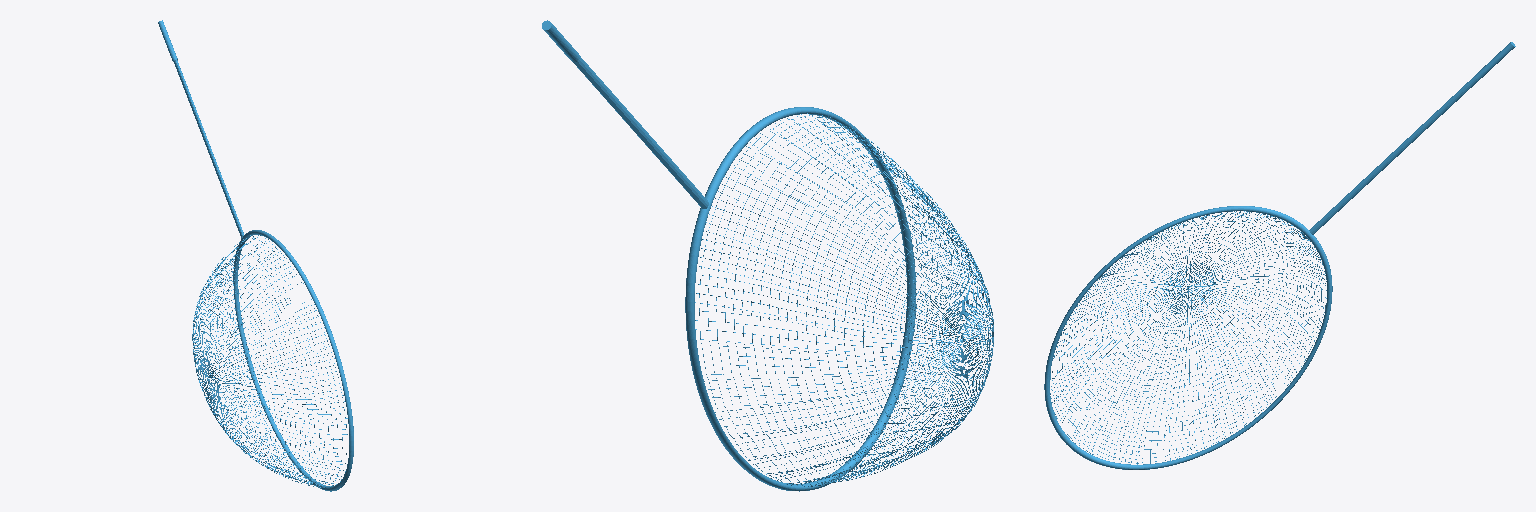
robot.urdf — panda:
<?xml version="1.0" encoding="utf-8"?>
<!-- =================================================================================== -->
<!-- |    This document is a hand edited version of the output autogenerated by xacro  | -->
<!-- |    from panda_arm_hand.urdf.xacro                                               | -->
<!-- |    Please see the README of parent directory for more details.                  | -->
<!-- =================================================================================== -->
<robot xmlns:drake="http://drake.mit.edu" name="panda">
  <link name="panda_link0">
    <inertial>
      <mass value="2.92"/>
      <origin xyz="-0.025566 -2.88e-05 0.057332" rpy="0 0 0"/>
      <inertia ixx="0.00782229414331" ixy="-1.56191622996e-05" ixz="-0.00126005738123" iyy="0.0109027971813" iyz="1.08233858202e-05" izz="0.0102355503949"/>
    </inertial>
    <visual>
      <origin rpy="1.57079632679 0 0"/>
      <geometry>
        <mesh filename="package://drake_models/franka_description/meshes/visual/link0.obj"/>
      </geometry>
    </visual>
    <collision>
      <origin rpy="0 0 0" xyz="-0.04 0.0 0.07"/>
      <geometry>
        <!-- <box size="0.25 0.2 0.14"/> -->
        <sphere radius="0.14"/>
      </geometry>
    </collision>
  </link>
  <link name="panda_link1">
    <inertial>
      <mass value="2.74"/>
      <origin xyz="0 -0.0324958 -0.0675818" rpy="0 0 0"/>
      <inertia ixx="0.0180416958283" ixy="0.0" ixz="0.0" iyy="0.0159136071891" iyz="0.0046758424612" izz="0.00620690827127"/>
    </inertial>
    <visual>
      <origin rpy="1.57079632679 0 0"/>
      <geometry>
        <mesh filename="package://drake_models/franka_description/meshes/visual/link1.obj"/>
      </geometry>
    </visual>
    <collision>
      <origin rpy="0 0 0" xyz="0.0 -0.03 -0.06"/>
      <geometry>
        <!-- <cylinder length="0.192" radius="0.08"/> -->
        <sphere radius="0.150"/>
      </geometry>
    </collision>
  </link>
  <joint name="panda_joint1" type="revolute">
    <origin rpy="0 0 0" xyz="0 0 0.333"/>
    <parent link="panda_link0"/>
    <child link="panda_link1"/>
    <axis xyz="0 0 1"/>
    <limit effort="87" lower="-2.8973" upper="2.8973" velocity="2.1750" drake:acceleration="15.0"/>
  </joint>
  <link name="panda_link2">
    <inertial>
      <mass value="2.74"/>
      <origin xyz="0 -0.06861 0.0322285" rpy="0 0 0"/>
      <inertia ixx="0.0182856182281" ixy="0.0" ixz="0.0" iyy="0.00621358421175" iyz="-0.00472844221905" izz="0.0161514346309"/>
    </inertial>
    <visual>
      <origin rpy="1.57079632679 0 0"/>
      <geometry>
        <mesh filename="package://drake_models/franka_description/meshes/visual/link2.obj"/>
      </geometry>
    </visual>
    <collision>
      <origin rpy="0 0 1.57" xyz="0.0 -0.06 0.03"/>
      <geometry>
        <!-- <cylinder length="0.290" radius="0.08"/> -->
        <sphere radius="0.150"/>
      </geometry>
    </collision>
  </link>
  <joint name="panda_joint2" type="revolute">
    <origin rpy="-1.57079632679 0 0" xyz="0 0 0"/>
    <parent link="panda_link1"/>
    <child link="panda_link2"/>
    <axis xyz="0 0 1"/>
    <limit effort="87" lower="-1.7628" upper="1.7628" velocity="2.1750" drake:acceleration="7.5"/>
  </joint>
  <link name="panda_link3">
    <inertial>
      <mass value="2.38"/>
      <origin xyz="0.0469893 0.0316374 -0.031704" rpy="0 0 0"/>
      <inertia ixx="0.00771376630908" ixy="-0.00248490625138" ixz="-0.00332147581033" iyy="0.00989108008727" iyz="-0.00217796151484" izz="0.00811723558464"/>
    </inertial>
    <visual>
      <origin rpy="1.57079632679 0 0"/>
      <geometry>
        <mesh filename="package://drake_models/franka_description/meshes/visual/link3.obj"/>
      </geometry>
    </visual>
    <collision>
      <origin rpy="0 0 0" xyz="0.06 0.024 -0.06"/>
      <geometry>
        <!-- <cylinder length="0.290" radius="0.08"/> -->
        <sphere radius="0.140"/>
      </geometry>
    </collision>
  </link>
  <joint name="panda_joint3" type="revolute">
    <origin rpy="1.57079632679 0 0" xyz="0 -0.316 0"/>
    <parent link="panda_link2"/>
    <child link="panda_link3"/>
    <axis xyz="0 0 1"/>
    <limit effort="87" lower="-2.8973" upper="2.8973" velocity="2.1750" drake:acceleration="10.0"/>
  </joint>
  <link name="panda_link4">
    <inertial>
      <mass value="2.38"/>
      <origin xyz="-0.0360446 0.0336853 0.031882" rpy="0 0 0"/>
      <inertia ixx="0.00799663881132" ixy="0.00347095570217" ixz="-0.00241222942995" iyy="0.00825390705278" iyz="0.00235774044121" izz="0.0102515004345"/>
    </inertial>
    <visual>
      <origin rpy="1.57079632679 0 0"/>
      <geometry>
        <mesh filename="package://drake_models/franka_description/meshes/visual/link4.obj"/>
      </geometry>
    </visual>
    <collision>
      <origin rpy="0 0 1.57" xyz="-0.05 0.01 0.02"/>
      <geometry>
        <!-- <cylinder length="0.250" radius="0.08"/> -->
        <sphere radius="0.140"/>
      </geometry>
    </collision>
  </link>
  <joint name="panda_joint4" type="revolute">
    <origin rpy="1.57079632679 0 0" xyz="0.0825 0 0"/>
    <parent link="panda_link3"/>
    <child link="panda_link4"/>
    <axis xyz="0 0 1"/>
    <limit effort="87" lower="-3.0718" upper="-0.0698" velocity="2.1750" drake:acceleration="12.5"/>
  </joint>
  <link name="panda_link5">
    <inertial>
      <mass value="2.74"/>
      <origin xyz="0 0.0610427 -0.104176" rpy="0 0 0"/>
      <inertia ixx="0.030371374513" ixy="6.50283587108e-07" ixz="-1.05129179916e-05" iyy="0.0288752887402" iyz="-0.00775653445787" izz="0.00444134056164"/>
    </inertial>
    <visual>
      <origin rpy="1.57079632679 0 0"/>
      <geometry>
        <mesh filename="package://drake_models/franka_description/meshes/visual/link5.obj"/>
      </geometry>
    </visual>
    <collision>
      <origin rpy="0 0 0" xyz="0.0 0.027 -0.21"/>
      <geometry>
        <!-- <cylinder length="0.240" radius="0.1"/> -->
        <sphere radius="0.1"/>
      </geometry>
    </collision>
    <collision>
      <origin rpy="0 0 0" xyz="0.0 0.07 -0.04"/>
      <geometry>
        <!-- <cylinder length="0.230" radius="0.05"/> -->
        <sphere radius="0.115"/>
      </geometry>
    </collision>
  </link>
  <joint name="panda_joint5" type="revolute">
    <origin rpy="-1.57079632679 0 0" xyz="-0.0825 0.384 0"/>
    <parent link="panda_link4"/>
    <child link="panda_link5"/>
    <axis xyz="0 0 1"/>
    <limit effort="12" lower="-2.8973" upper="2.8973" velocity="2.610" drake:acceleration="15.0"/>
  </joint>
  <link name="panda_link6">
    <inertial>
      <mass value="1.55"/>
      <origin xyz="0.0510509 0.009108 0.0106343" rpy="0 0 0"/>
      <inertia ixx="0.00303336450376" ixy="-0.000437276865508" ixz="0.000629257294877" iyy="0.00404479911567" iyz="0.000130472021025" izz="0.00558234286039"/>
    </inertial>
    <visual>
      <origin rpy="1.57079632679 0 0"/>
      <geometry>
        <mesh filename="package://drake_models/franka_description/meshes/visual/link6.obj"/>
      </geometry>
    </visual>
    <collision>
      <origin rpy="0 1.57 0.38" xyz="0.04 0.0 0.0"/>
      <geometry>
        <!-- <cylinder length="0.220" radius="0.06"/> -->
        <sphere radius="0.11"/>
      </geometry>
    </collision>
  </link>
  <joint name="panda_joint6" type="revolute">
    <origin rpy="1.57079632679 0 0" xyz="0 0 0"/>
    <parent link="panda_link5"/>
    <child link="panda_link6"/>
    <axis xyz="0 0 1"/>
    <limit effort="12" lower="-0.0175" upper="3.7525" velocity="2.610" drake:acceleration="20.0"/>
  </joint>
  <link name="panda_link7">
    <inertial>
      <mass value="0.54"/>
      <origin xyz="0.0109695 0.0107965 0.0650411" rpy="0 0 0"/>
      <inertia ixx="0.000888868887021" ixy="-0.00012239074652" ixz="3.98699829666e-05" iyy="0.000888001373233" iyz="-9.33825115206e-05" izz="0.0007176834609"/>
    </inertial>
    <visual>
      <origin rpy="1.57079632679 0 0"/>
      <geometry>
        <mesh filename="package://drake_models/franka_description/meshes/visual/link7.obj"/>
      </geometry>
    </visual>
    <collision>
      <origin rpy="0 0 0" xyz="0.02 0.02 0.07"/>
      <geometry>
        <!-- <cylinder length="0.12" radius="0.05"/> -->
        <sphere radius="0.08"/>
      </geometry>
    </collision>
  </link>
  <joint name="panda_joint7" type="revolute">
    <origin rpy="1.57079632679 0 0" xyz="0.088 0 0"/>
    <parent link="panda_link6"/>
    <child link="panda_link7"/>
    <axis xyz="0 0 1"/>
    <limit effort="12" lower="-2.8973" upper="2.8973" velocity="2.610" drake:acceleration="20.0"/>
  </joint>
  <link name="panda_link8">
    <collision>
      <origin rpy="0 0 0" xyz="0.08 0.08 0.0"/>
      <geometry>
        <!-- <cylinder length="0.08" radius="0.09"/> -->
        <sphere radius="0.03"/>
      </geometry>
    </collision>
  </link>
  <joint name="panda_joint8" type="fixed">
    <origin rpy="0 0 0" xyz="0 0 0.107"/>
    <parent link="panda_link7"/>
    <child link="panda_link8"/>
  </joint>
  <link name="panda_link9">
    <inertial>
      <mass value="0.07"/>
      <origin xyz="0 0 0" rpy="0 0 0"/>
      <inertia ixx="0.001575" ixy="-0.001575" ixz="0" iyy="0.001575" iyz="0" izz="0.00315"/>
    </inertial>
    <visual>
      <!-- <origin rpy="-1.57 0 -0.8" xyz="0.15 0.15 0"/> -->
      <origin rpy="-1.57 0 -0.8" xyz="-0.005 -0.005 -0.02"/>
      <geometry>
        <mesh filename="./net3d_2.obj"/>
      </geometry>
    </visual>
    <collision>
      <origin rpy="0 0 0" xyz="0 0 0"/>
      <geometry>
        <!-- <cylinder length="0.08" radius="0.09"/> -->
        <sphere radius="0.085"/>
      </geometry>
    </collision>
  </link>
  <joint name="panda_joint9" type="fixed">
    <origin rpy="0 0 0" xyz="0.145 0.145 0.02"/>
    <parent link="panda_link8"/>
    <child link="panda_link9"/>
  </joint>
  <transmission name="panda_tran1">
    <type>transmission_interface/SimpleTransmission</type>
    <joint name="panda_joint1">
      <hardwareInterface>PositionJointInterface</hardwareInterface>
    </joint>
    <actuator name="panda_motor1">
      <hardwareInterface>PositionJointInterface</hardwareInterface>
      <mechanicalReduction>1</mechanicalReduction>
      <drake:gear_ratio value="100.0" />
      <drake:rotor_inertia value="0.0000605721456" />
    </actuator>
  </transmission>
  <transmission name="panda_tran2">
    <type>transmission_interface/SimpleTransmission</type>
    <joint name="panda_joint2">
      <hardwareInterface>PositionJointInterface</hardwareInterface>
    </joint>
    <actuator name="panda_motor2">
      <hardwareInterface>PositionJointInterface</hardwareInterface>
      <mechanicalReduction>1</mechanicalReduction>
      <drake:gear_ratio value="100.0" />
      <drake:rotor_inertia value="0.0000605721456" />
    </actuator>
  </transmission>
  <transmission name="panda_tran3">
    <type>transmission_interface/SimpleTransmission</type>
    <joint name="panda_joint3">
      <hardwareInterface>PositionJointInterface</hardwareInterface>
    </joint>
    <actuator name="panda_motor3">
      <hardwareInterface>PositionJointInterface</hardwareInterface>
      <mechanicalReduction>1</mechanicalReduction>
      <drake:gear_ratio value="100.0" />
      <drake:rotor_inertia value="0.0000462474144" />
    </actuator>
  </transmission>
  <transmission name="panda_tran4">
    <type>transmission_interface/SimpleTransmission</type>
    <joint name="panda_joint4">
      <hardwareInterface>PositionJointInterface</hardwareInterface>
    </joint>
    <actuator name="panda_motor4">
      <hardwareInterface>PositionJointInterface</hardwareInterface>
      <mechanicalReduction>1</mechanicalReduction>
      <drake:gear_ratio value="100.0" />
      <drake:rotor_inertia value="0.0000462474144" />
    </actuator>
  </transmission>
  <transmission name="panda_tran5">
    <type>transmission_interface/SimpleTransmission</type>
    <joint name="panda_joint5">
      <hardwareInterface>PositionJointInterface</hardwareInterface>
    </joint>
    <actuator name="panda_motor5">
      <hardwareInterface>PositionJointInterface</hardwareInterface>
      <mechanicalReduction>1</mechanicalReduction>
      <drake:gear_ratio value="100.0" />
      <drake:rotor_inertia value="0.0000205544064" />
    </actuator>
  </transmission>
  <transmission name="panda_tran6">
    <type>transmission_interface/SimpleTransmission</type>
    <joint name="panda_joint6">
      <hardwareInterface>PositionJointInterface</hardwareInterface>
    </joint>
    <actuator name="panda_motor6">
      <hardwareInterface>PositionJointInterface</hardwareInterface>
      <mechanicalReduction>1</mechanicalReduction>
      <drake:gear_ratio value="100.0" />
      <drake:rotor_inertia value="0.0000205544064" />
    </actuator>
  </transmission>
  <transmission name="panda_tran7">
    <type>transmission_interface/SimpleTransmission</type>
    <joint name="panda_joint7">
      <hardwareInterface>PositionJointInterface</hardwareInterface>
    </joint>
    <actuator name="panda_motor7">
      <hardwareInterface>PositionJointInterface</hardwareInterface>
      <mechanicalReduction>1</mechanicalReduction>
      <drake:gear_ratio value="100.0" />
      <drake:rotor_inertia value="0.0000205544064" />
    </actuator>
  </transmission>
  <drake:collision_filter_group name="group_link57">
    <drake:member link="panda_link5"/>
    <drake:member link="panda_link7"/>
    <drake:ignored_collision_filter_group name="group_link57"/>
  </drake:collision_filter_group>
  <drake:collision_filter_group name="group_link68">
    <drake:member link="panda_link6"/>
    <drake:member link="panda_link8"/>
    <drake:ignored_collision_filter_group name="group_link68"/>
  </drake:collision_filter_group>
</robot>

--- Render facts (derived) ---
The picture shows the robot from 3 angles, left to right: view 1: azimuth 30°, elevation 25°; view 2: azimuth 150°, elevation 25°; view 3: azimuth 270°, elevation 25°; orthographic projection.
Robot: panda — 10 links, 9 joints (7 revolute, 2 fixed); root link panda_link0; default pose: joints at zero except 1 at the middle of their limits (panda_joint4 = -1.57).
Links seen in each view (by area): view 1: panda_link9; view 2: panda_link9; view 3: panda_link9.
Link boxes in pixels (x1,y1,x2,y2): panda_link9: (158,20,353,491); panda_link9: (542,20,993,491); panda_link9: (1044,42,1515,469).
Bounding box of the posed robot: 0.0569 × 0.2181 × 0.2185 m (x, y, z).
1 mesh visuals loaded from 9 distinct referenced files (1 OBJ); not drawn: 8 (reference not matched to a file when rendering).